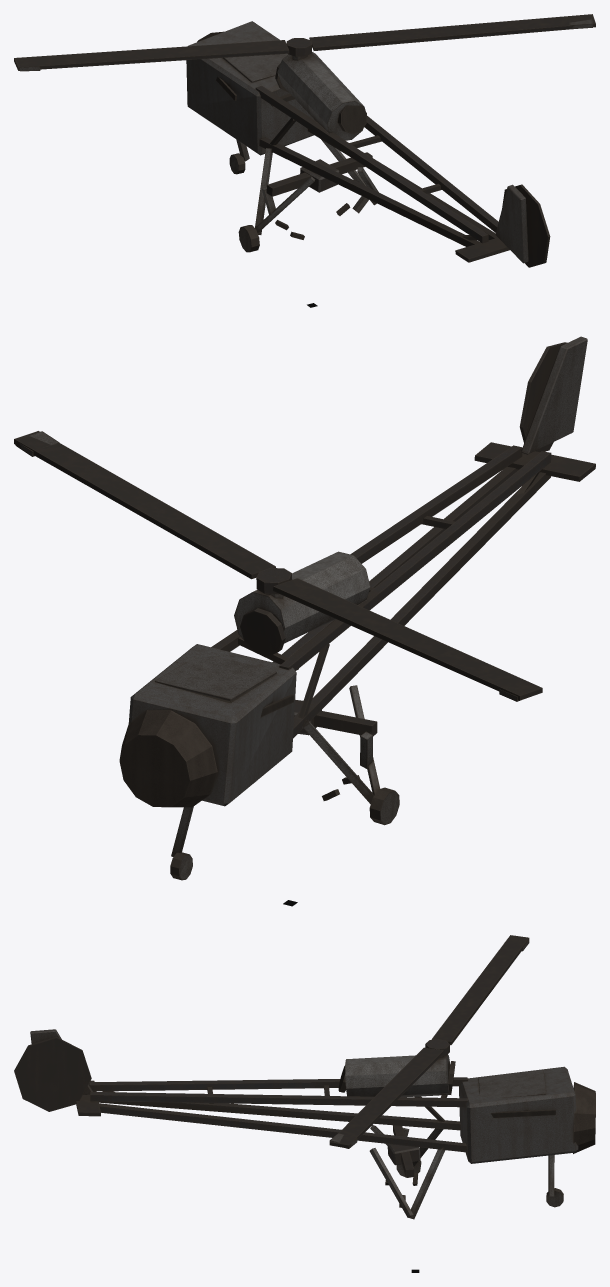
The model's file is chs_buzzard_wreck.fbx.
The picture shows the model from 3 angles, top to bottom: view 1: azimuth 30°, elevation 25°; view 2: azimuth 150°, elevation 25°; view 3: azimuth 270°, elevation 25°; orthographic projection. The views are drawn at different scales.
Visible parts, largest first — view 1: base_bar, rotor_bar, tailRotor_bar; view 2: base_bar, rotor_bar, tailRotor_bar; view 3: base_bar, rotor_bar, tailRotor_bar.
Part boxes in pixels (x1,y1,x2,y2): base_bar: [186, 21, 528, 263]; rotor_bar: [14, 14, 595, 71]; tailRotor_bar: [502, 184, 550, 267]; base_bar: [119, 336, 595, 880]; rotor_bar: [14, 431, 542, 701]; tailRotor_bar: [519, 342, 567, 452]; base_bar: [30, 1029, 595, 1219]; rotor_bar: [329, 935, 529, 1148]; tailRotor_bar: [14, 1037, 91, 1111].
Bounding box in the file's own units: 1319 × 698 × 1533.
2 materials, 2 textured.
